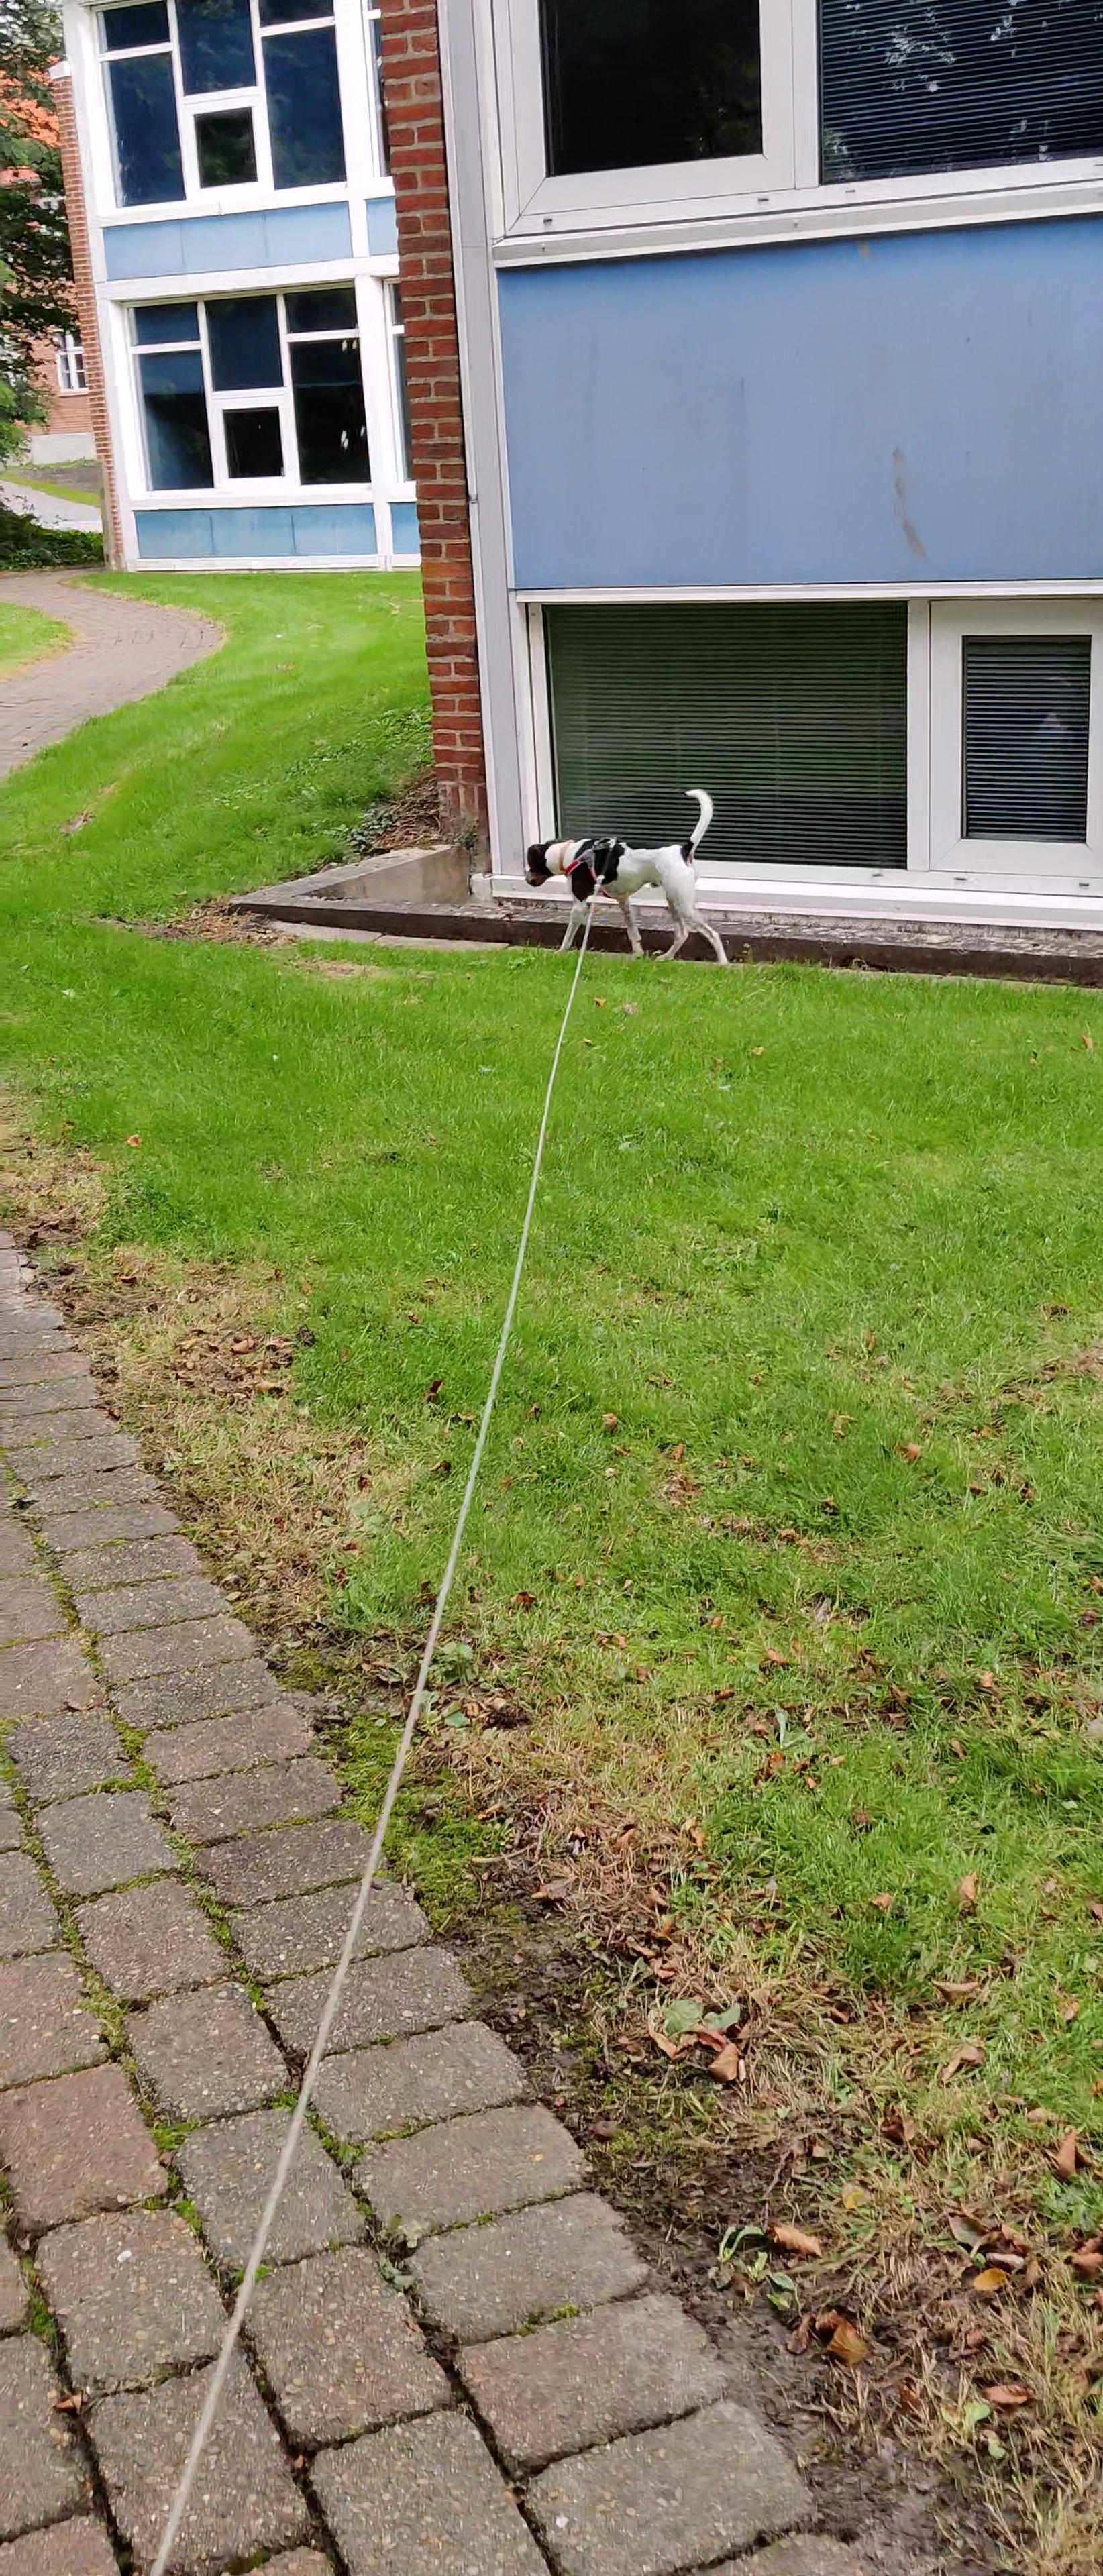Dog: (513, 775, 735, 966)
